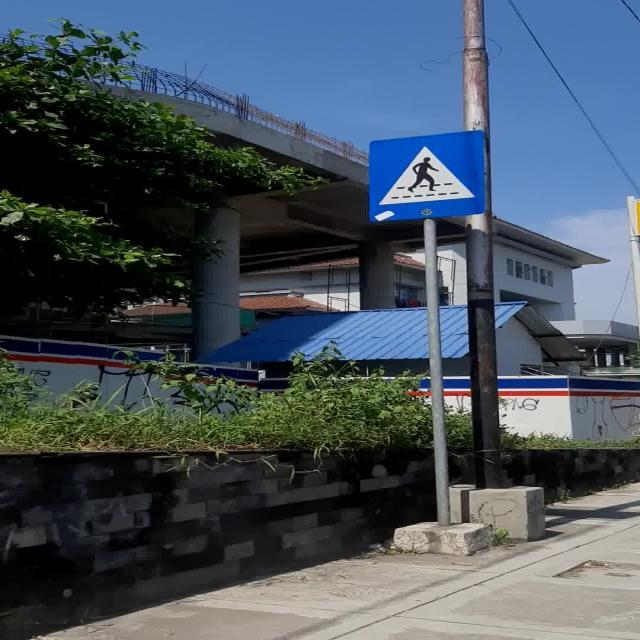Perintah Jalur Penyebrangan: (362, 130, 487, 222)
